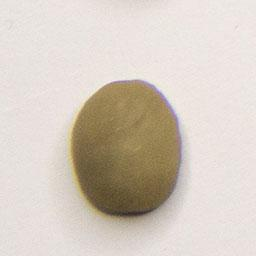premium: (67, 76, 185, 218)
